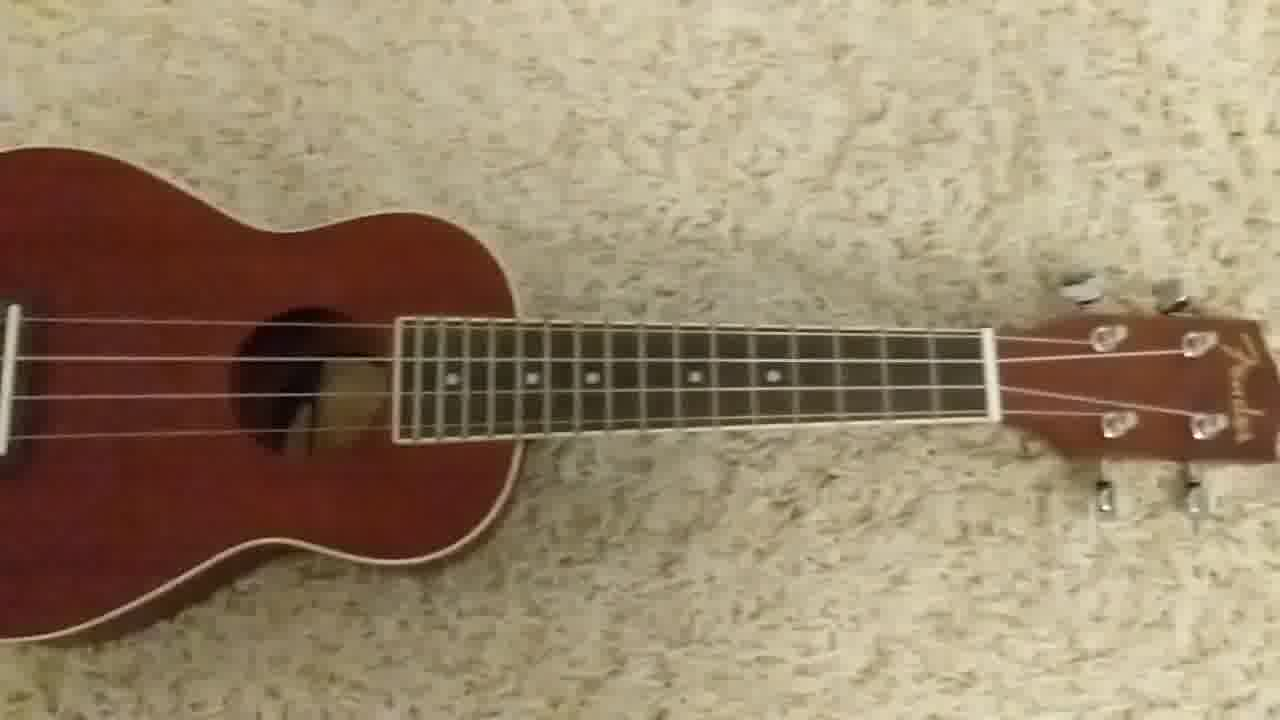Body: (1, 136, 532, 648)
Bridge: (1, 299, 30, 464)
Headstock: (999, 258, 1280, 523)
